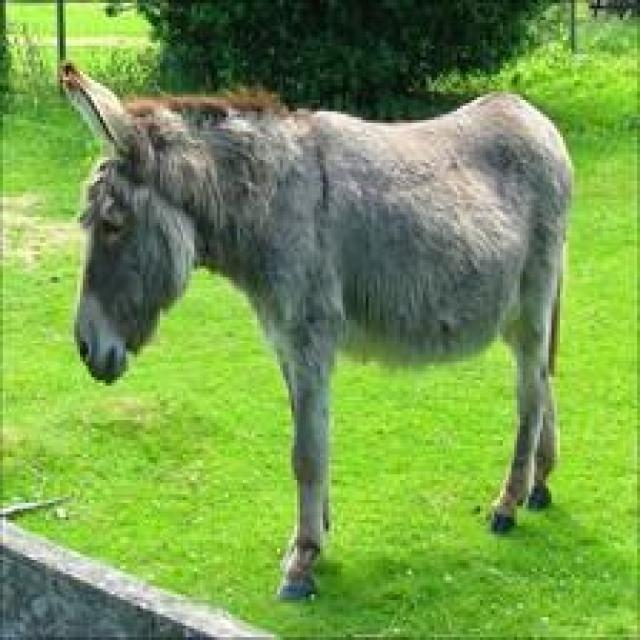Donkey: (57, 57, 574, 603)
